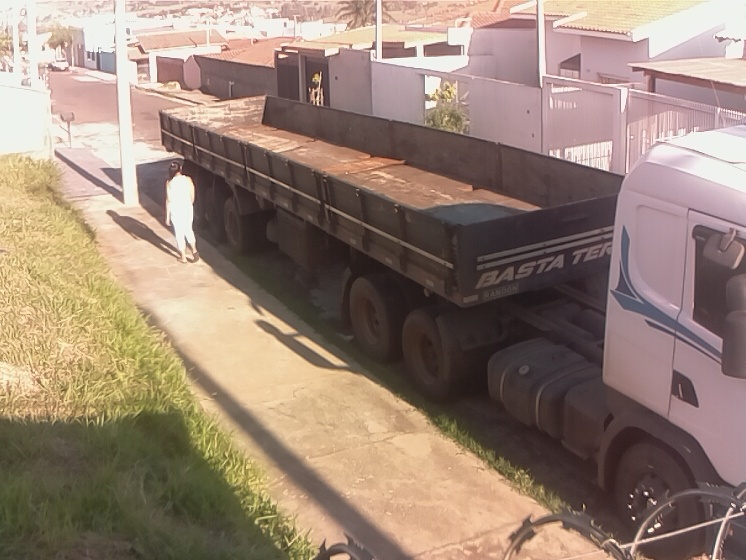person: (164, 156, 210, 265)
